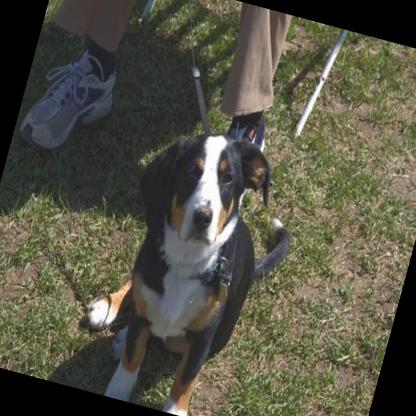EntleBucher: (61, 98, 317, 416)
